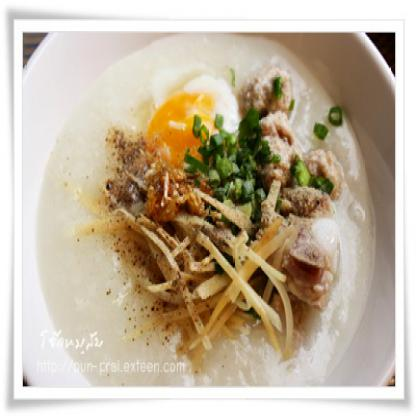Joke: (33, 40, 379, 414)
